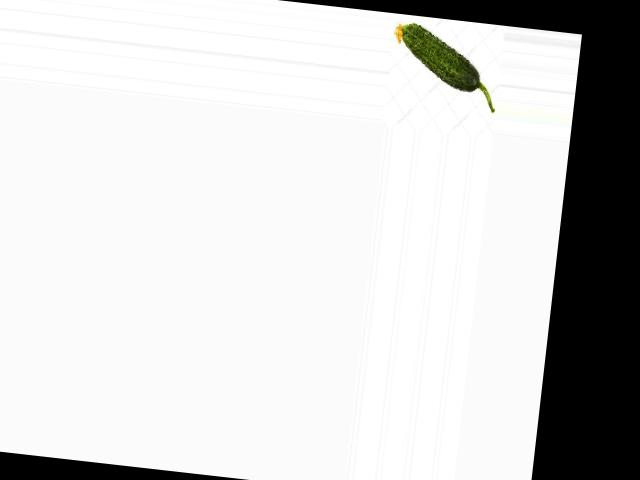cucumber: (385, 20, 502, 112)
